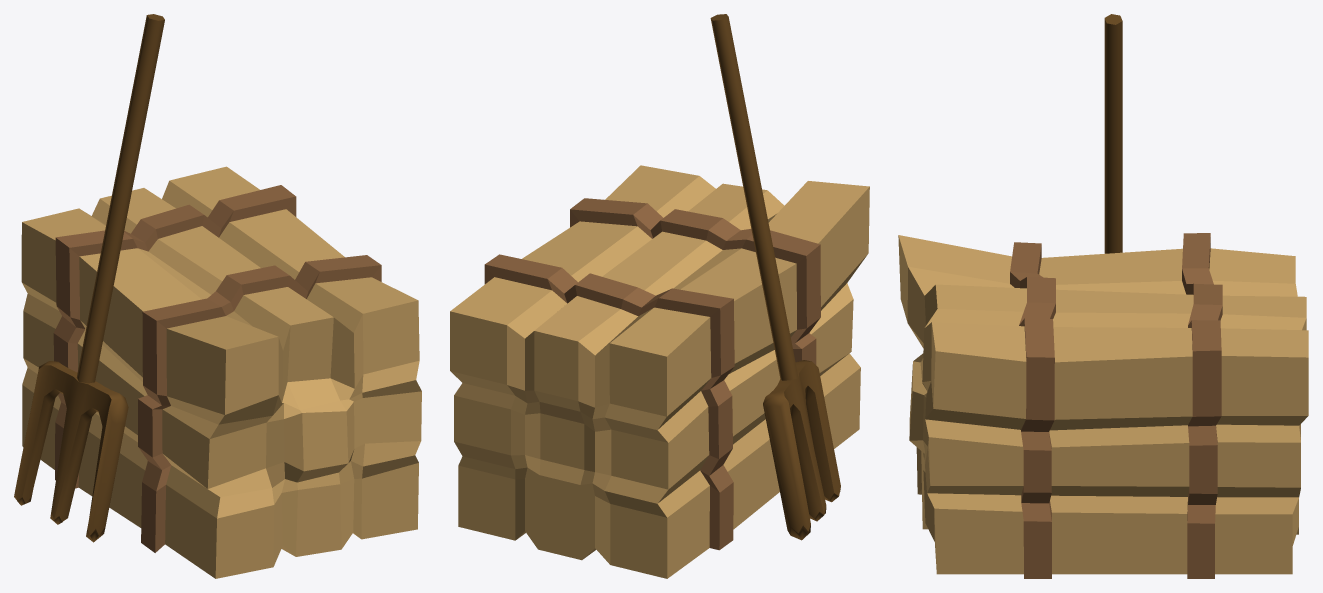
The model's file is Hay_with_fork.fbx.
3 renders of one model, left to right at view 1: azimuth 30°, elevation 25°; view 2: azimuth 150°, elevation 25°; view 3: azimuth 270°, elevation 25°, orthographic. The views are drawn at different scales.
Visible parts, largest first — view 1: Cube.008; view 2: Cube.008; view 3: Cube.008.
Boxes of the visible parts, x1,y1,x2,y2 form: Cube.008: (14, 14, 421, 578); Cube.008: (450, 14, 869, 578); Cube.008: (898, 14, 1308, 578).
Bounding box in the file's own units: 146 × 229 × 179.
